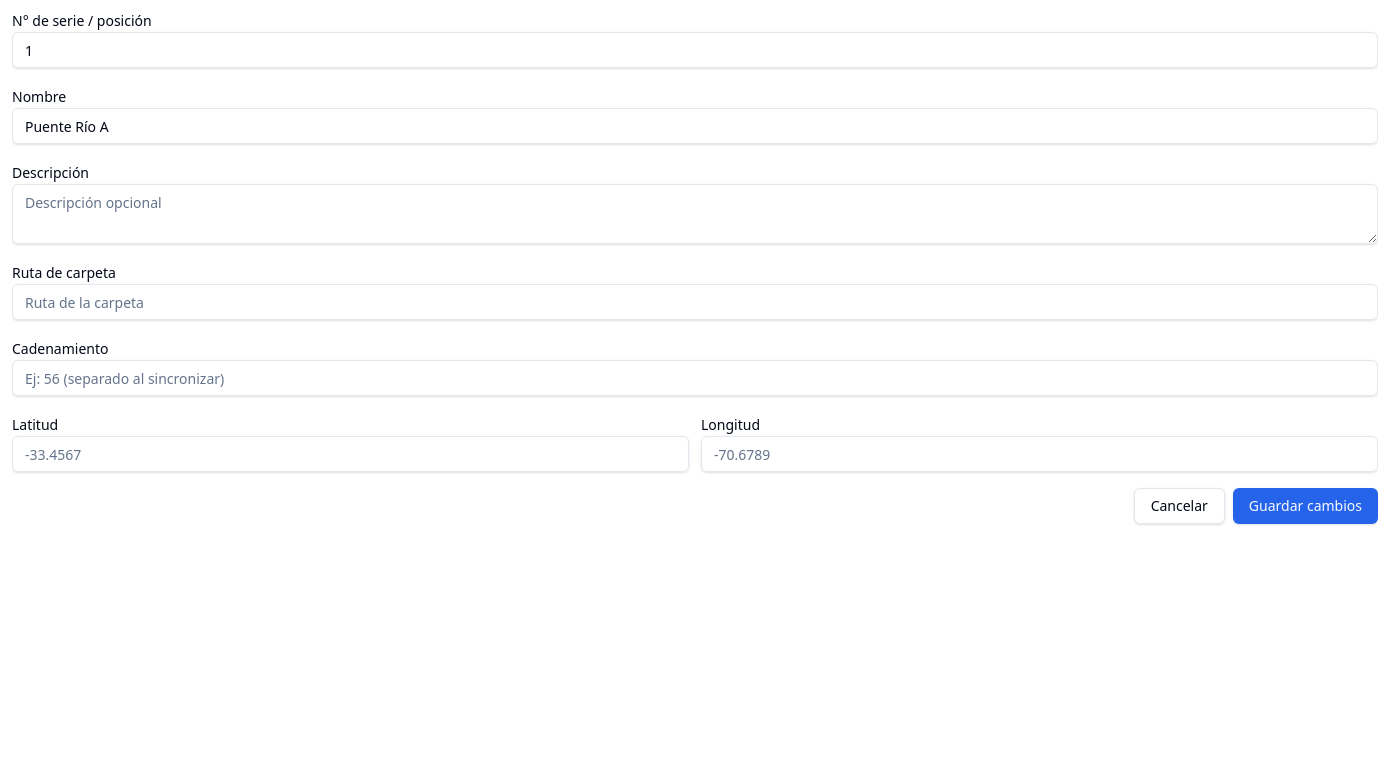
FormularioPunto — validación sincrónica › rechaza número de serie fuera de rango
Type "99" into the number field labelled "N° de serie / posición" at (695, 50), box [12,32,1378,68]
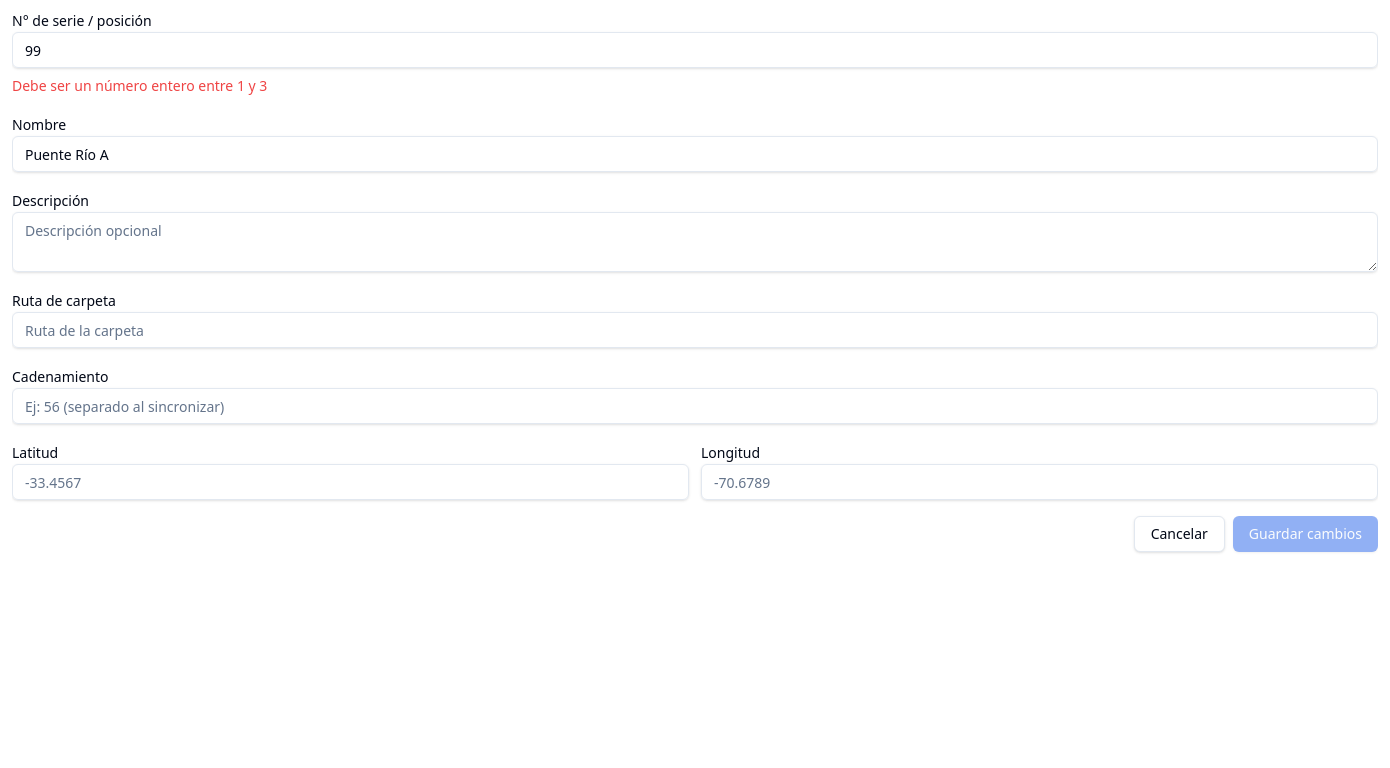
Now the message reads "Debe ser un número entero entre 1 y 3", box [12,76,267,95]
